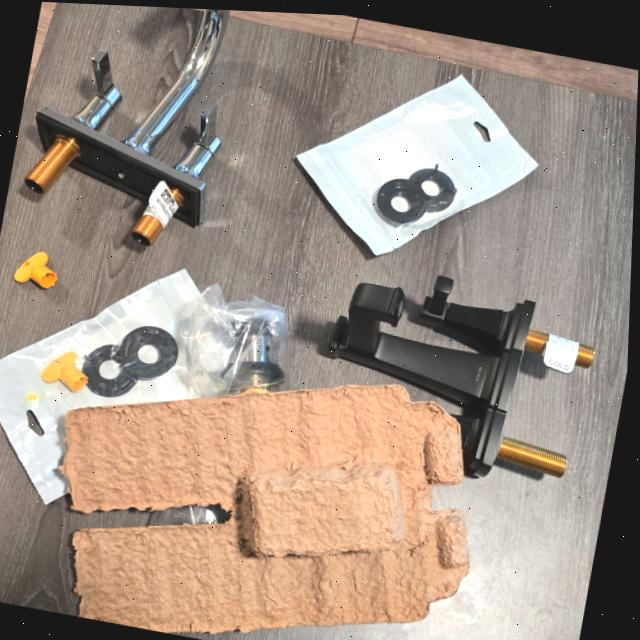10: (25, 9, 229, 245)
11o: (186, 285, 288, 397)
12o: (0, 269, 221, 504)
13: (297, 77, 537, 256)
14: (14, 252, 57, 289)
9o: (323, 276, 595, 478)
